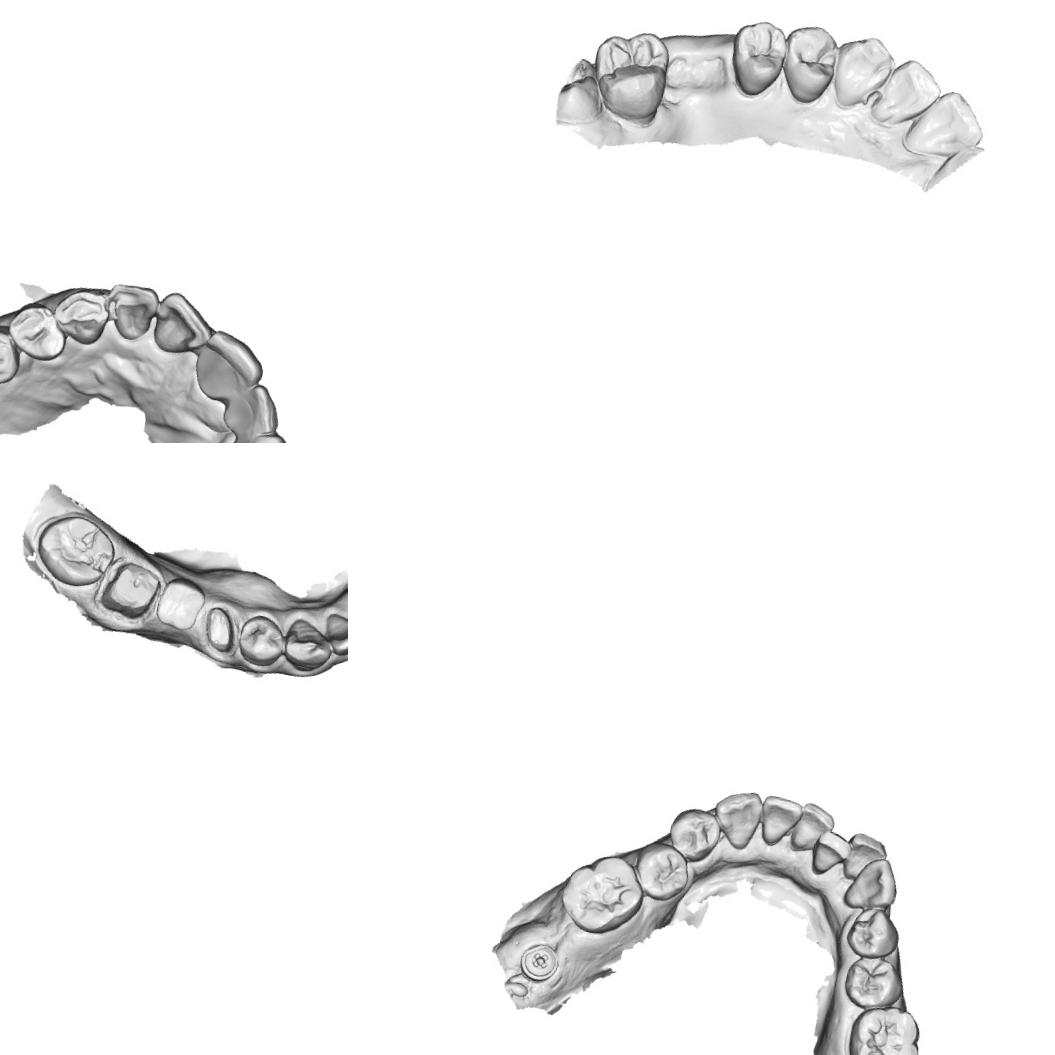canine: (828, 29, 896, 114), (838, 848, 906, 916), (706, 782, 768, 853), (48, 280, 112, 348), (278, 615, 336, 676), (215, 421, 295, 443)
crown: (94, 552, 164, 626), (196, 602, 243, 660)
implant_plus: (512, 936, 566, 989)
incisor: (896, 80, 992, 168), (188, 324, 268, 408), (872, 52, 948, 132), (145, 286, 217, 360), (215, 376, 290, 443), (98, 276, 164, 346), (836, 826, 892, 889), (750, 790, 806, 850), (786, 799, 839, 860), (807, 822, 856, 882), (318, 610, 348, 660)
molar: (581, 23, 683, 128), (552, 844, 652, 944), (27, 507, 122, 594), (839, 995, 932, 1055), (148, 571, 210, 635)
premolar: (773, 17, 844, 109), (722, 13, 791, 102), (625, 834, 698, 908), (838, 948, 912, 1016), (659, 800, 726, 868), (4, 298, 70, 363), (841, 900, 905, 963), (233, 610, 289, 670), (0, 322, 25, 386)
